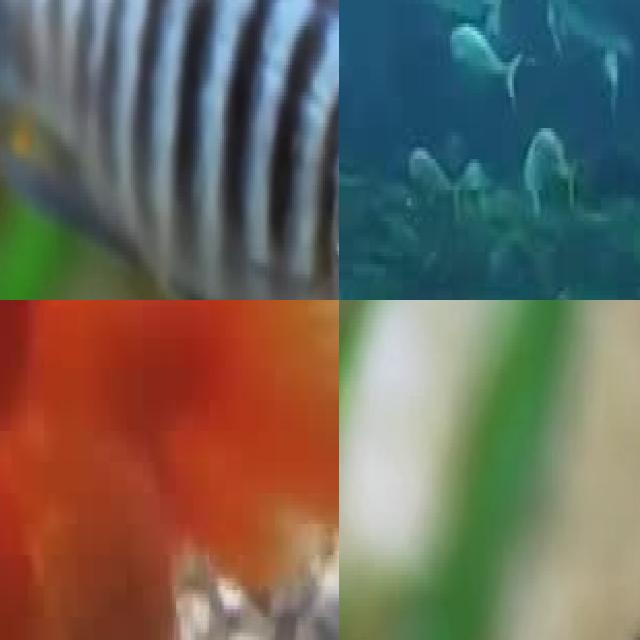fish: (0, 0, 339, 300), (0, 300, 69, 640)
